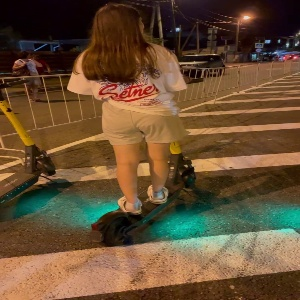human on a scooter: (66, 1, 204, 246)
